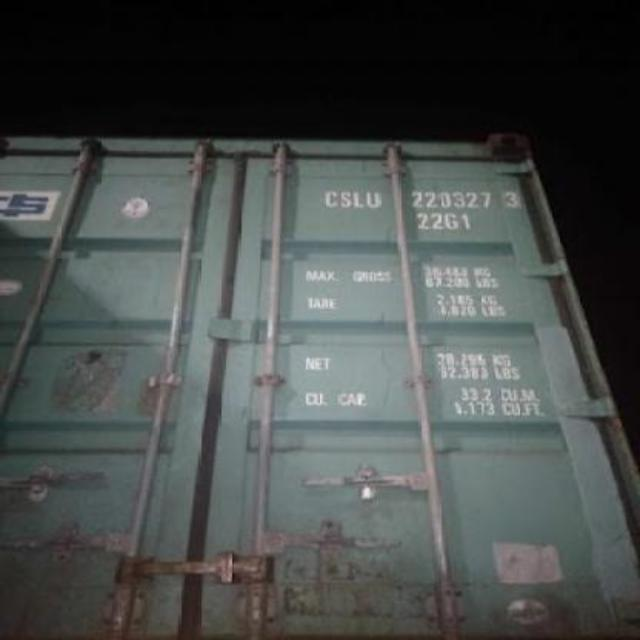0: (434, 186, 450, 210)
2: (406, 182, 422, 210), (424, 186, 438, 210), (466, 186, 476, 210)
3: (504, 182, 522, 210), (450, 184, 466, 206)
7: (476, 184, 494, 210)
C: (324, 184, 338, 210)
L: (350, 182, 366, 210)
S: (336, 184, 349, 210)
U: (364, 187, 382, 210)
